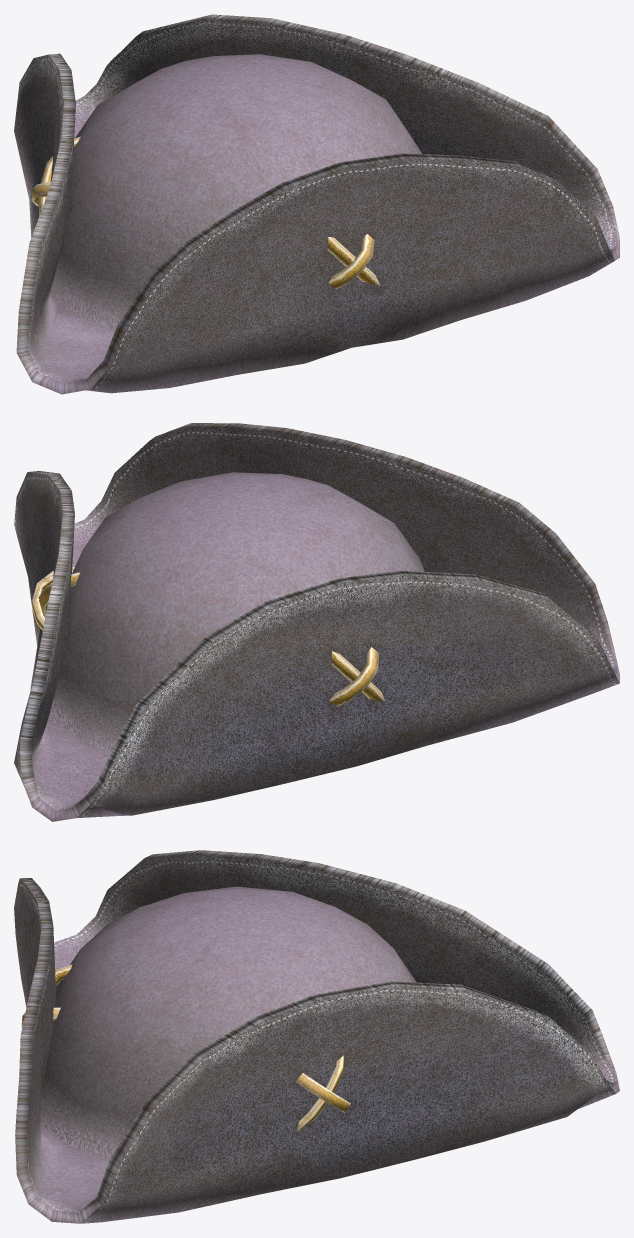
File: pirate-hat.glb
3 views of the same model, one above another, from view 1: azimuth 30°, elevation 25°; view 2: azimuth 150°, elevation 25°; view 3: azimuth 270°, elevation 25° (orthographic).
Visible parts, largest first — view 1: Tricornhat_low, stripe5_low, stripe4_low; view 2: Tricornhat_low, stripe1_low, stripe_low; view 3: Tricornhat_low, stripe3_low, stripe2_low.
Part boxes in pixels (<box>): Tricornhat_low: <box>14,14,619,394</box>; stripe5_low: <box>329,234,374,289</box>; stripe4_low: <box>327,237,380,285</box>; Tricornhat_low: <box>14,423,619,821</box>; stripe1_low: <box>329,647,379,706</box>; stripe_low: <box>331,651,385,701</box>; Tricornhat_low: <box>14,850,619,1223</box>; stripe3_low: <box>296,1073,350,1112</box>; stripe2_low: <box>297,1055,344,1131</box>.
Bounding box in the file's own units: 2 × 0.6272 × 1.78.
Materials: 1 (1 with a texture image).
